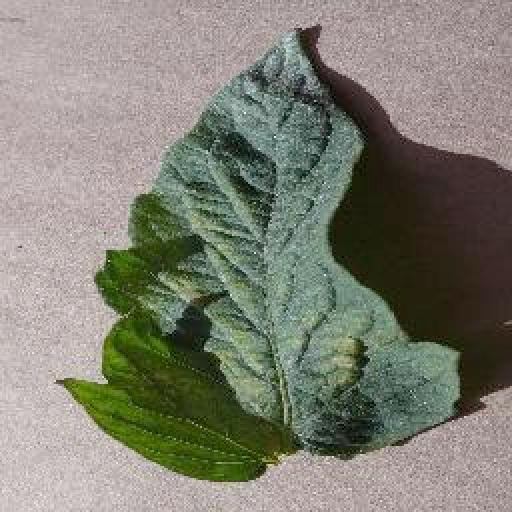disease_tomato: (54, 28, 462, 482)
